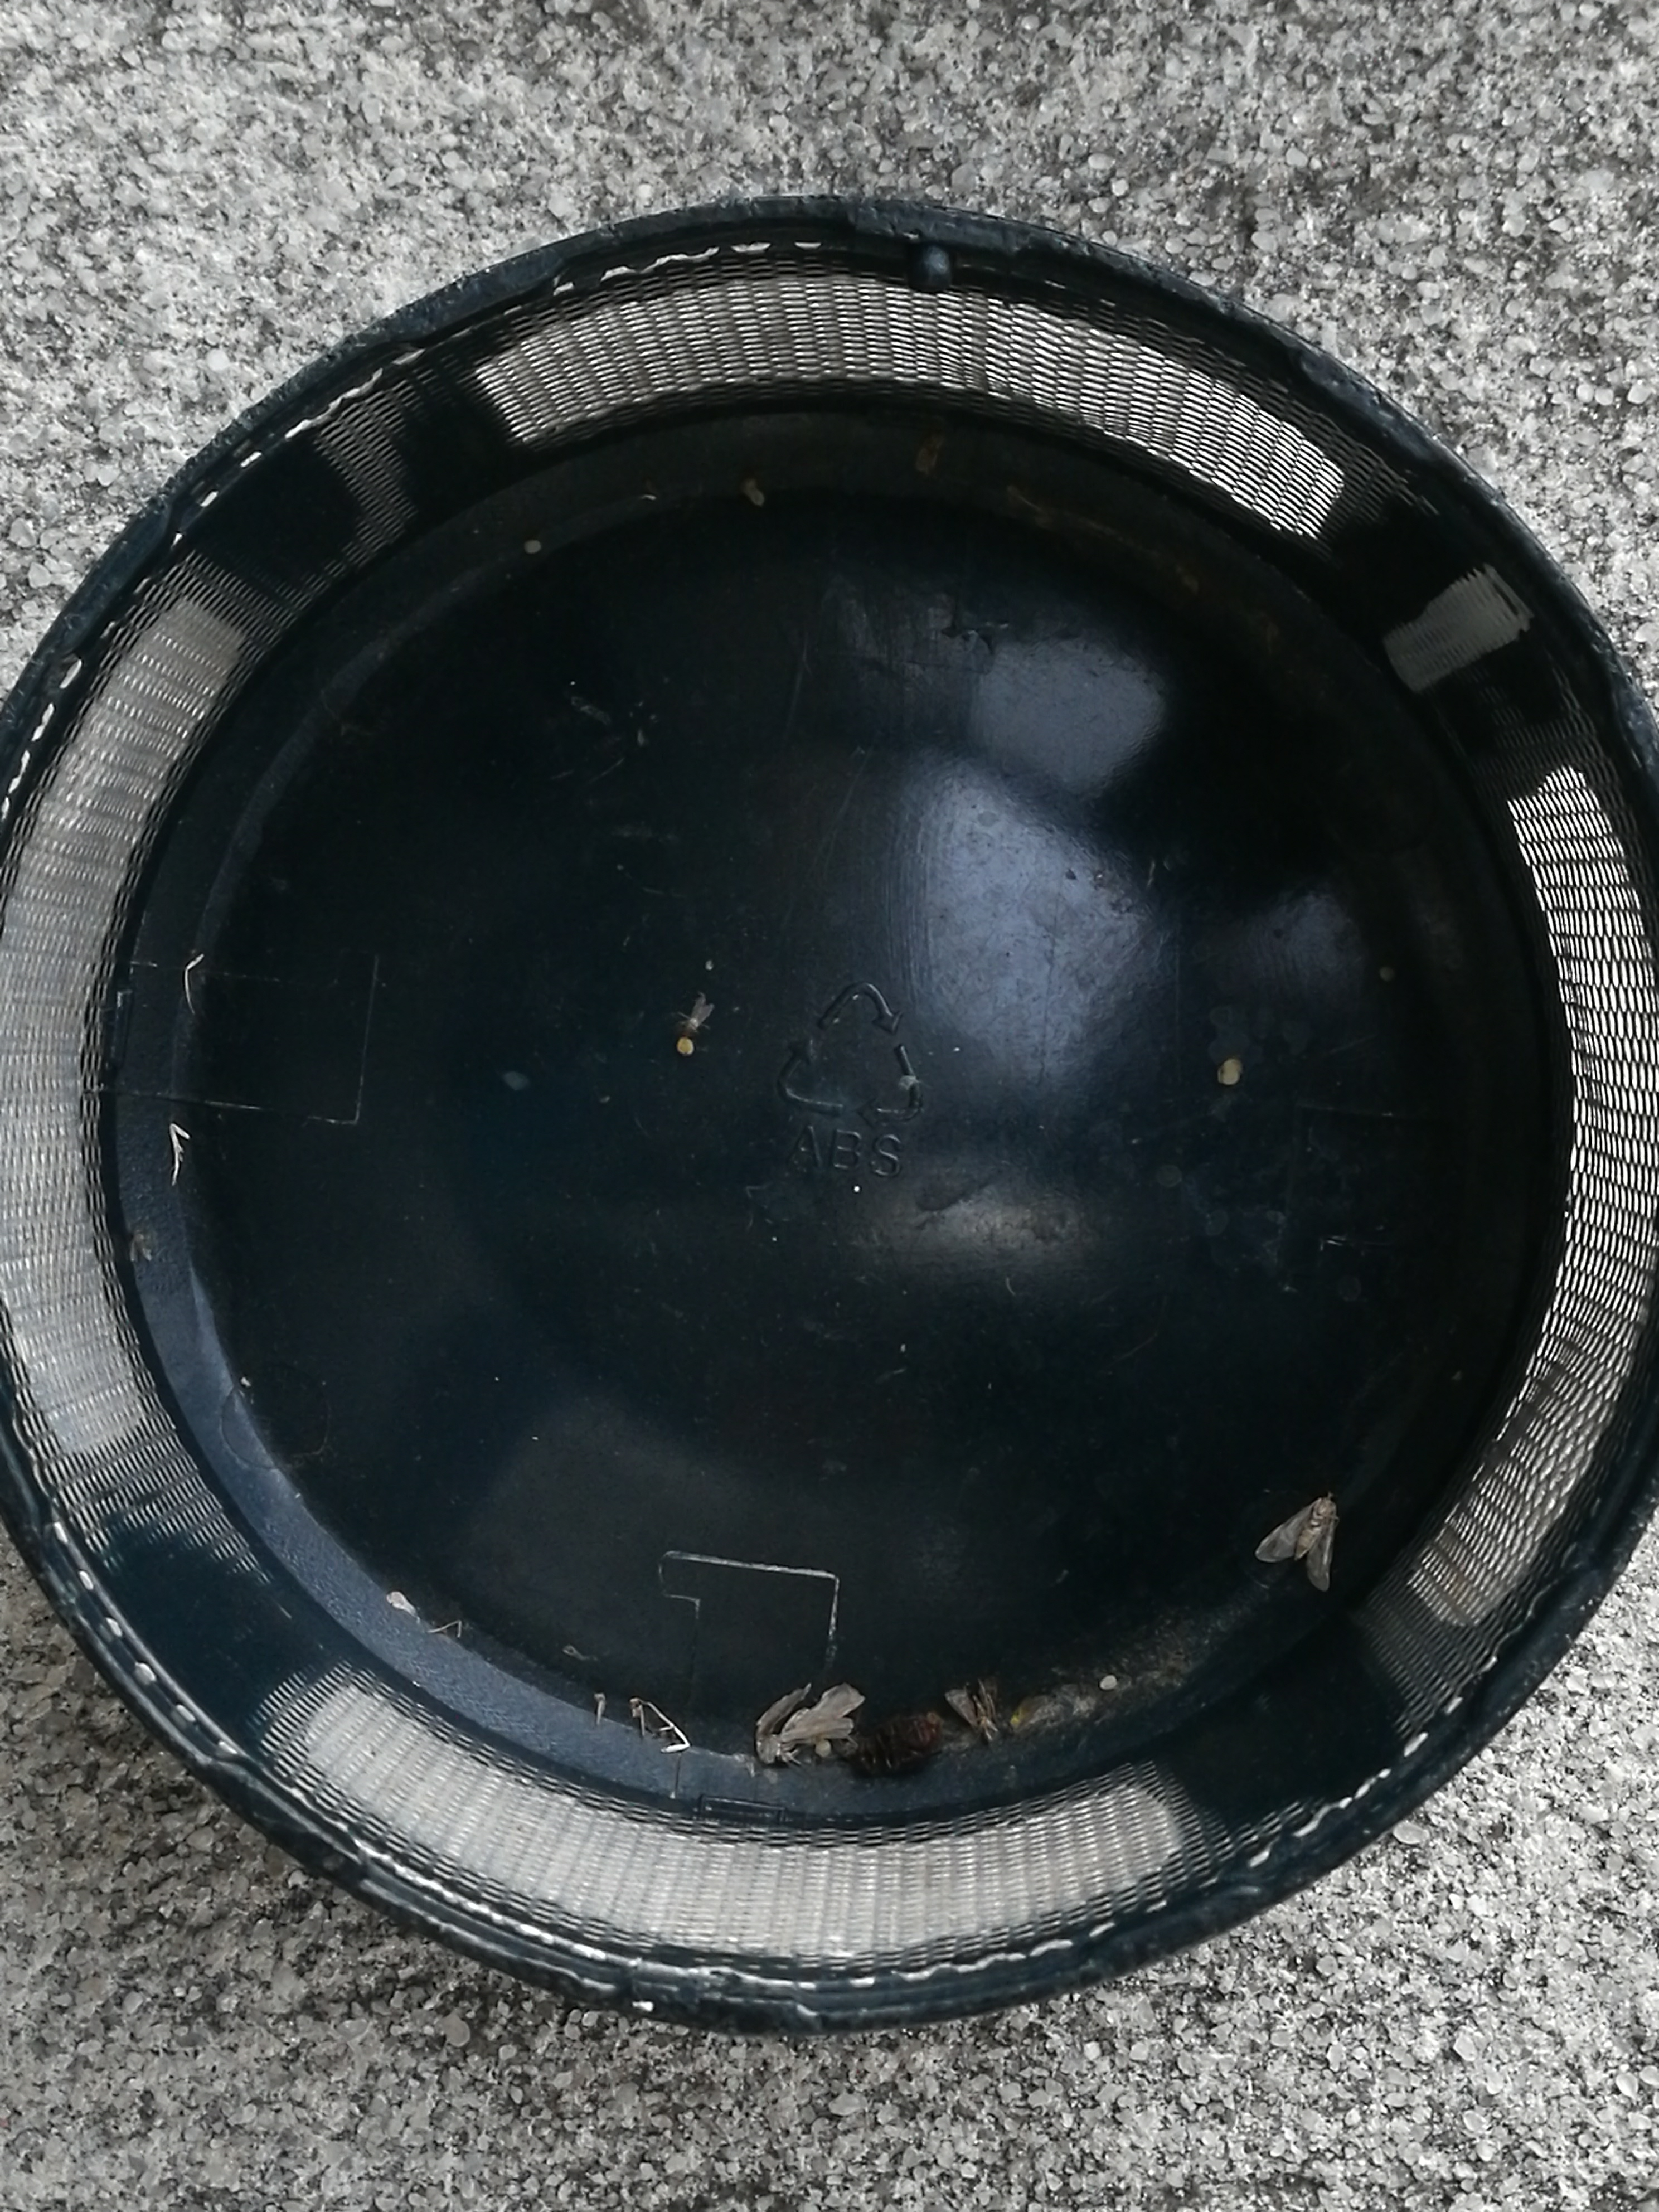beetle: (852, 1714, 943, 1777)
mosquito: (685, 996, 711, 1036)
moth: (1255, 1491, 1338, 1592), (943, 1672, 997, 1742)
